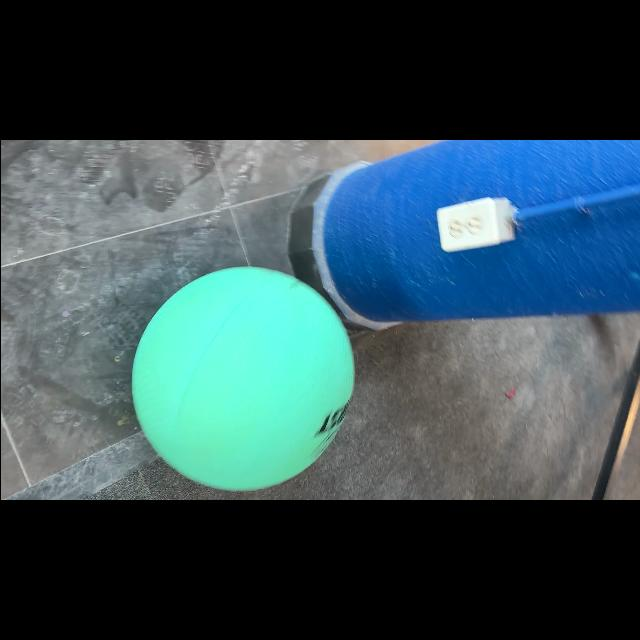ALGAE: (130, 264, 356, 492)
